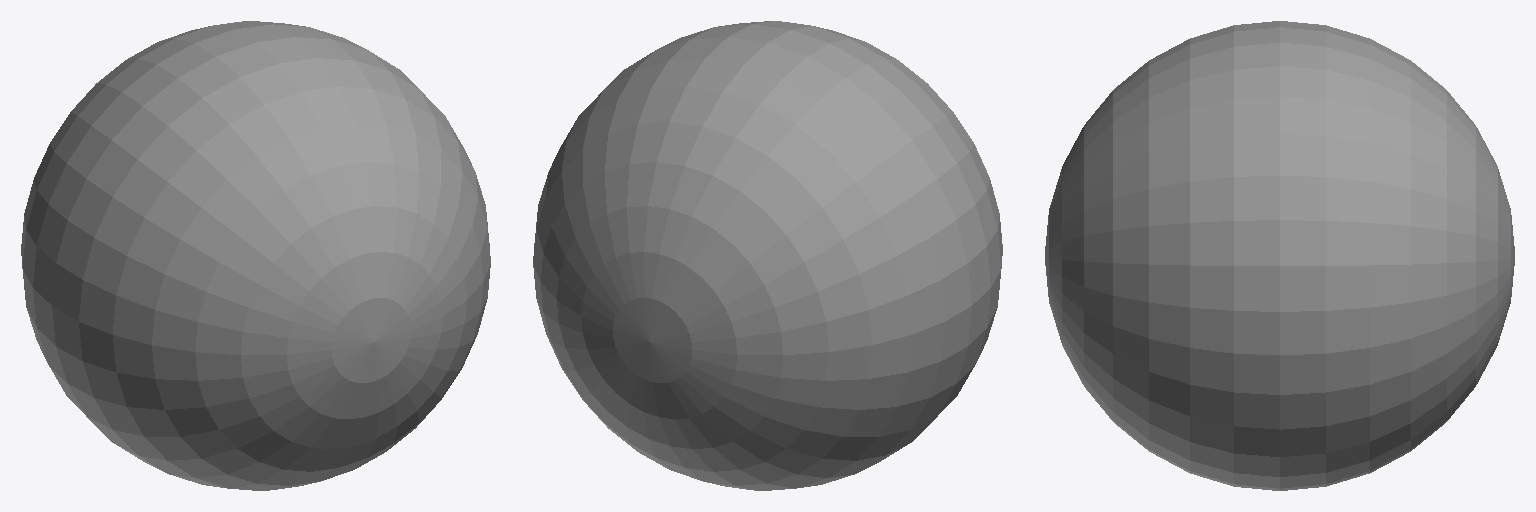
The model's file is sphere_init_z_up.obj.
The picture shows the model from 3 angles: view 1: azimuth 30°, elevation 25°; view 2: azimuth 150°, elevation 25°; view 3: azimuth 270°, elevation 25°; orthographic projection.
Parts seen in each view (by area): view 1: Sphere.003; view 2: Sphere.003; view 3: Sphere.003.
Part boxes in pixels (left/top/right/bottom): Sphere.003: left=21, top=21, right=490, bottom=490; Sphere.003: left=533, top=21, right=1002, bottom=490; Sphere.003: left=1045, top=21, right=1514, bottom=490.
Size of the model in its own units: 0.3 by 0.3 by 0.3.